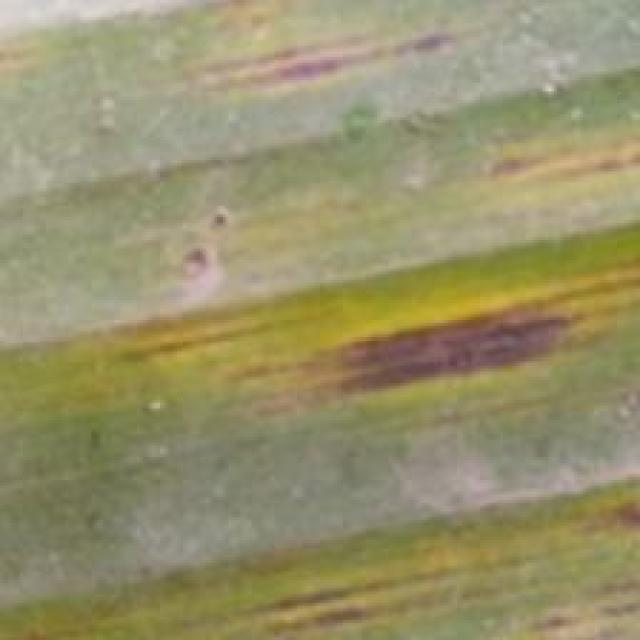Early_leaf_spot: (0, 503, 640, 640), (248, 286, 624, 441), (164, 0, 477, 114), (428, 79, 630, 226), (128, 169, 242, 311)
